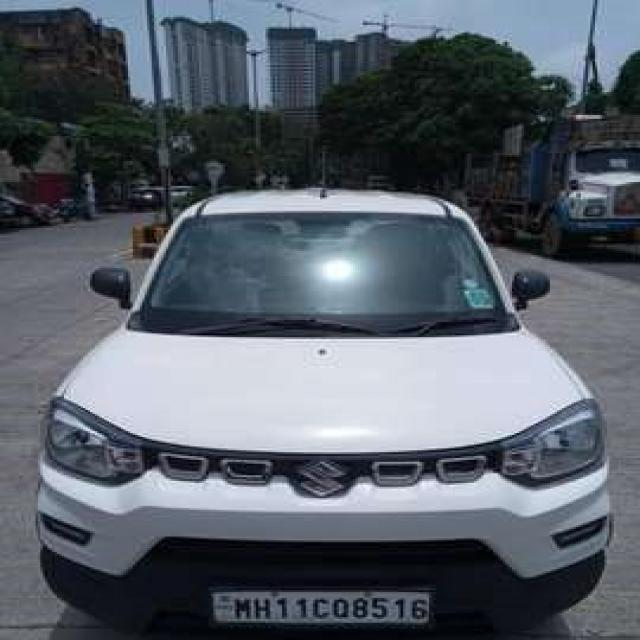Plate: (212, 587, 430, 622)
